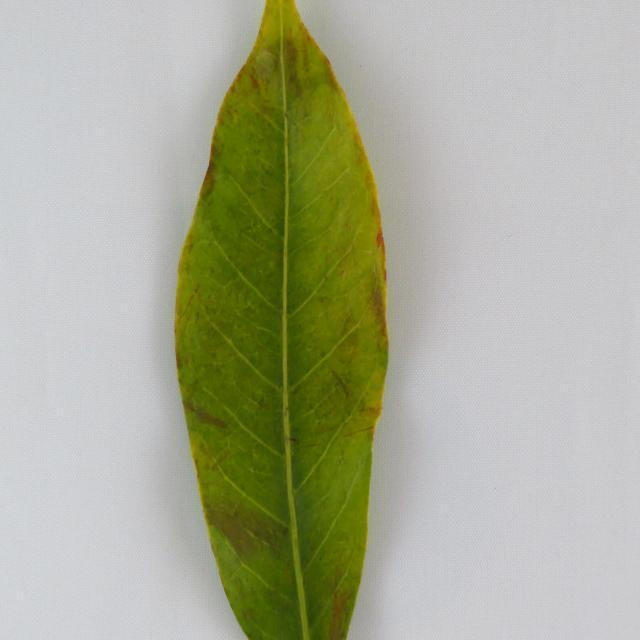DeficienciaNutricional-Nitrogeno: (180, 0, 378, 634)
